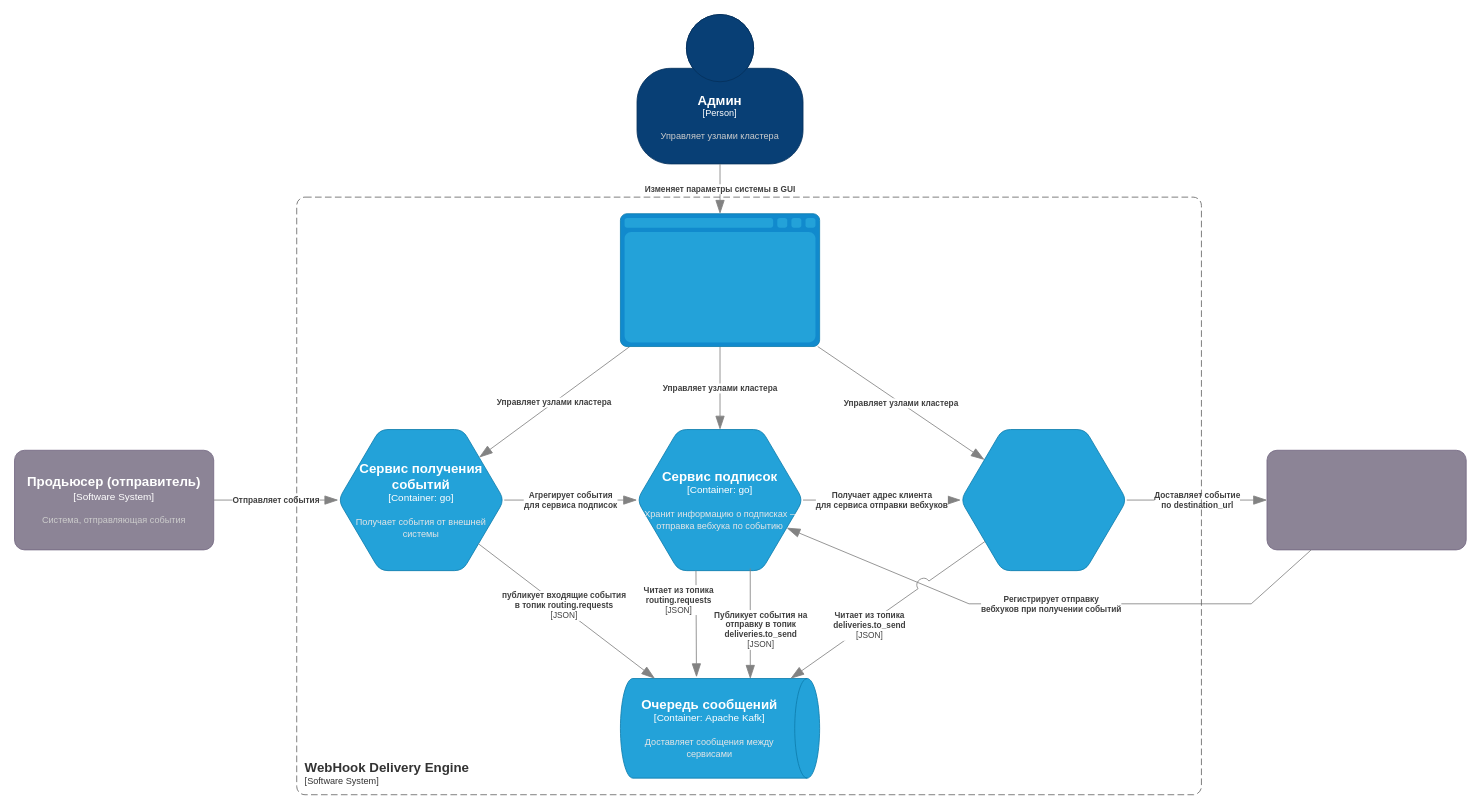
The diagram is 1481 pixels wide and 809 high, and some of its shapes have lost their labels. The shapes that lost their labels are listed below. From the top down, each one's box as (x1, y1, x2, y2) in pixels, then its label:
(620, 213, 820, 347): Админка кластера [Container: VKUI] UI для управления узлами кластера
(960, 429, 1127, 571): Сервис отправки вебхуков [Container: go] Отправляет вебхук
(1266, 449, 1466, 550): Подписчик (получатель) [Software System] Получатель вебхука
